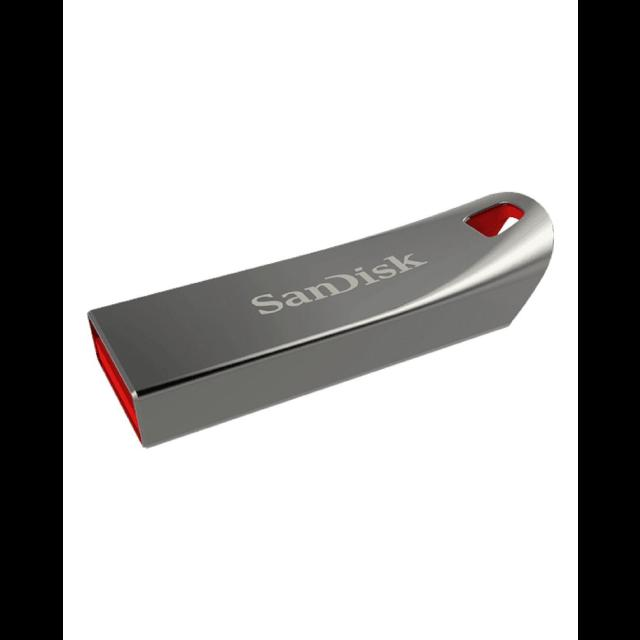USB-Flash-Drive: (80, 175, 558, 470)
